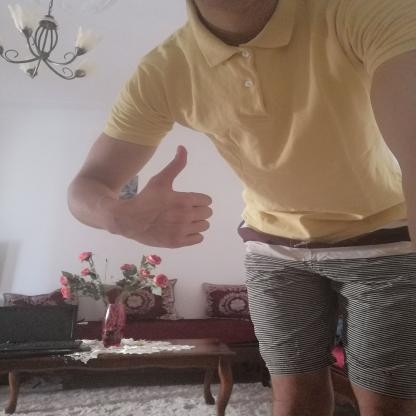ALIF: (110, 134, 232, 256)
